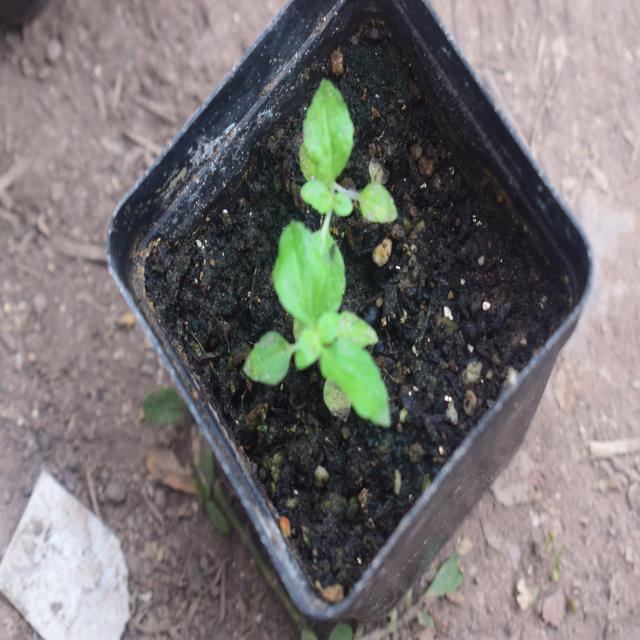billygoat_weed: (262, 212, 401, 445)
